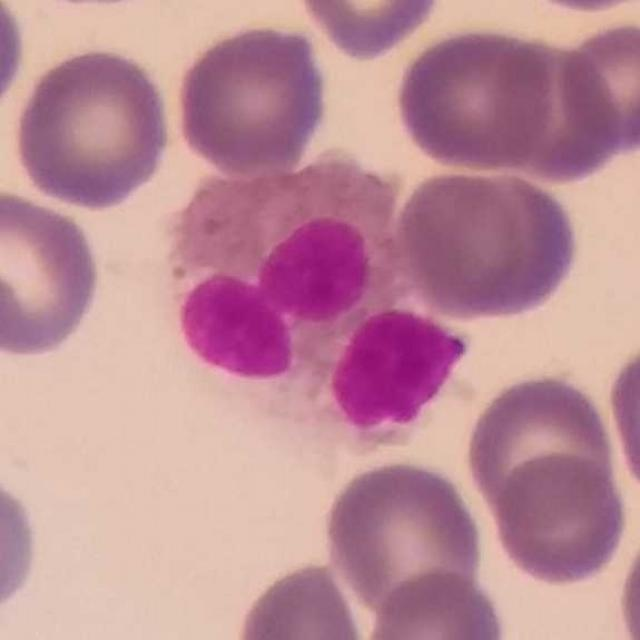Eosinophil: (168, 151, 475, 452)
RBC: (390, 164, 583, 324), (8, 41, 176, 213), (320, 454, 488, 619), (170, 18, 334, 178), (392, 22, 560, 176), (461, 368, 621, 526), (488, 448, 631, 588), (0, 182, 106, 362), (551, 17, 640, 158), (230, 556, 369, 640), (359, 565, 511, 640), (290, 0, 447, 62), (0, 461, 43, 625), (603, 332, 640, 508), (0, 0, 30, 126), (613, 514, 640, 640), (512, 0, 639, 16)
